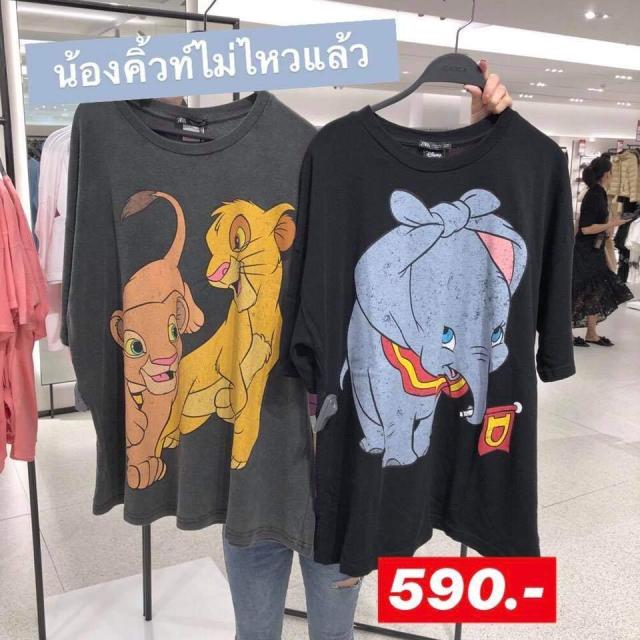Tshirt: (292, 102, 600, 578), (52, 86, 338, 563)
